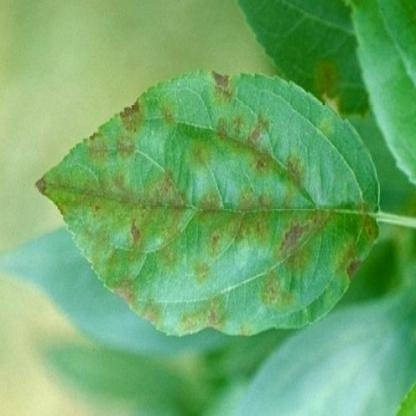apple scab leaf: (34, 49, 389, 341)
